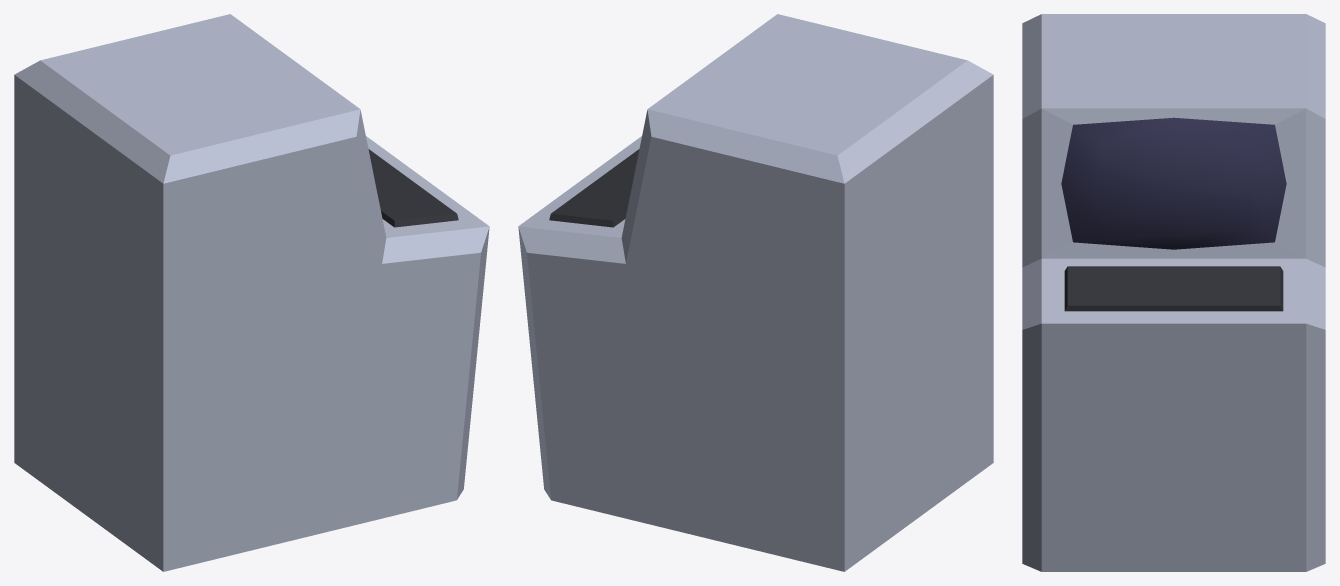
Rendered from Terminal.glb.
3 views of the same model, side by side, from view 1: azimuth 30°, elevation 25°; view 2: azimuth 150°, elevation 25°; view 3: azimuth 270°, elevation 25° (orthographic).
Parts seen in each view (by area): view 1: Terminal; view 2: Terminal; view 3: Terminal.
Part boxes in pixels (<box>): Terminal: <box>14,14,489,571</box>; Terminal: <box>518,14,993,571</box>; Terminal: <box>1022,14,1325,571</box>.
Size of the model in its own units: 2.6 by 3 by 2.
